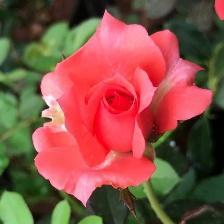rose: (32, 9, 216, 209)
